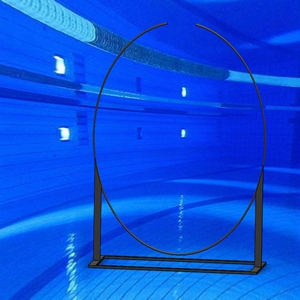circle: (88, 21, 270, 276)
